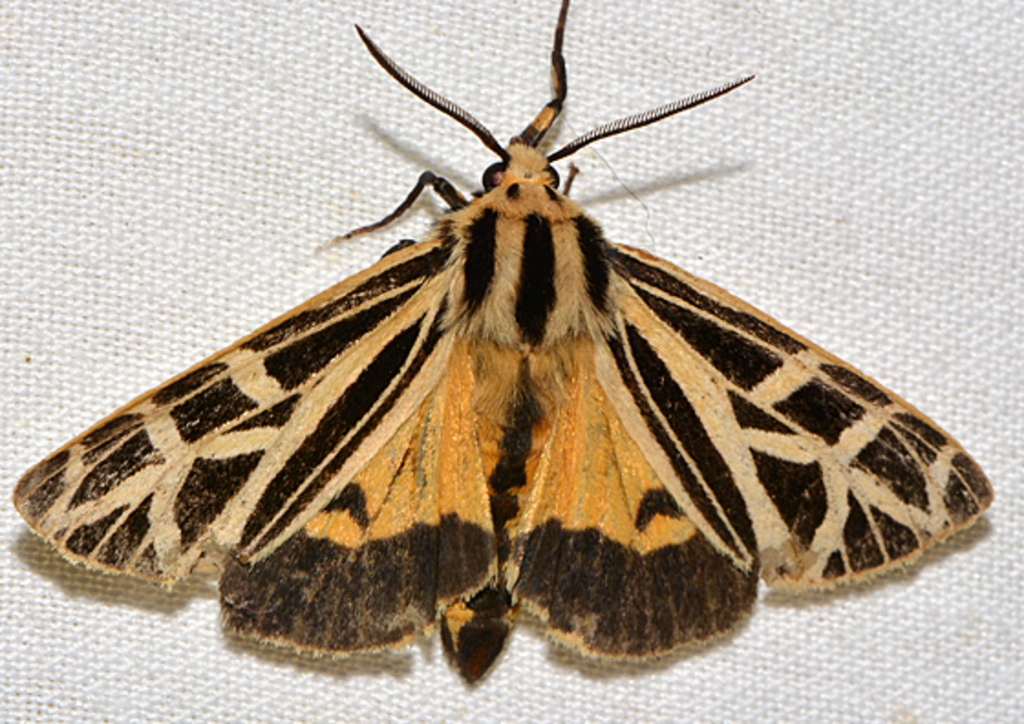Butterfly: (16, 53, 1004, 691)
